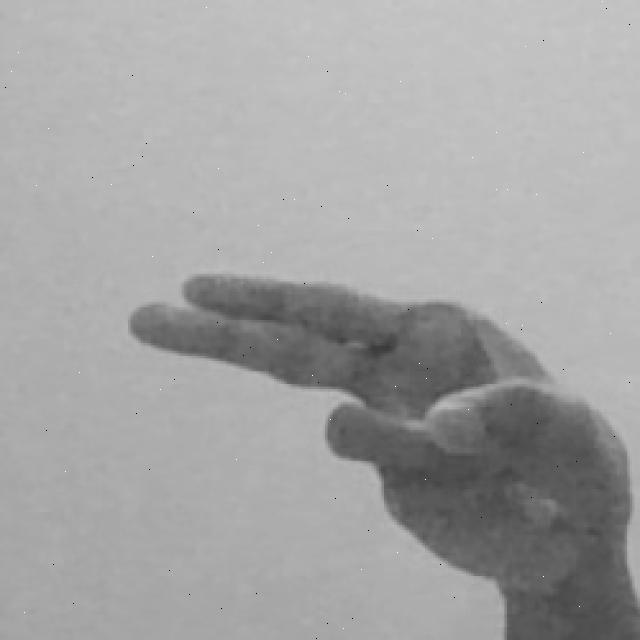H: (118, 263, 640, 640)
